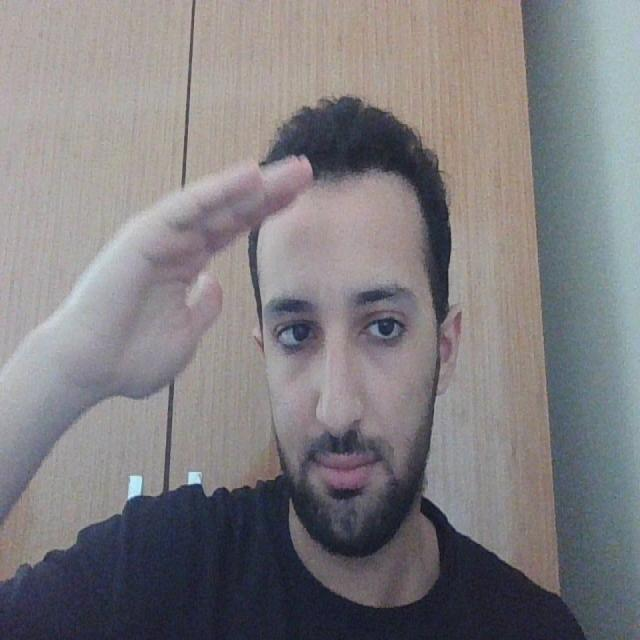Merhaba: (56, 117, 320, 495)
